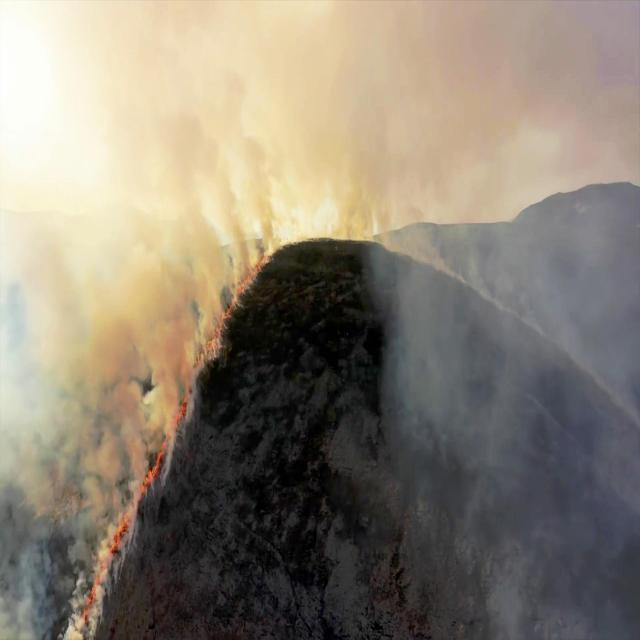Fire: (189, 248, 278, 372), (126, 402, 192, 505), (83, 545, 110, 631), (110, 510, 130, 564)
Smoke: (0, 1, 640, 224), (382, 228, 640, 640), (0, 219, 81, 639), (110, 226, 188, 400), (82, 226, 110, 528)
